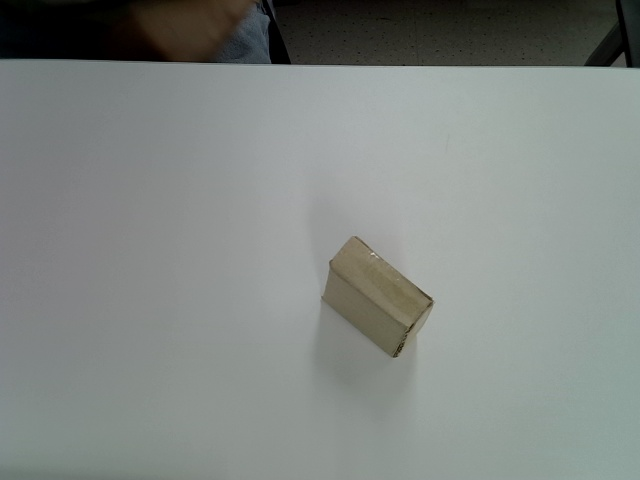normal: (321, 237, 436, 358)
